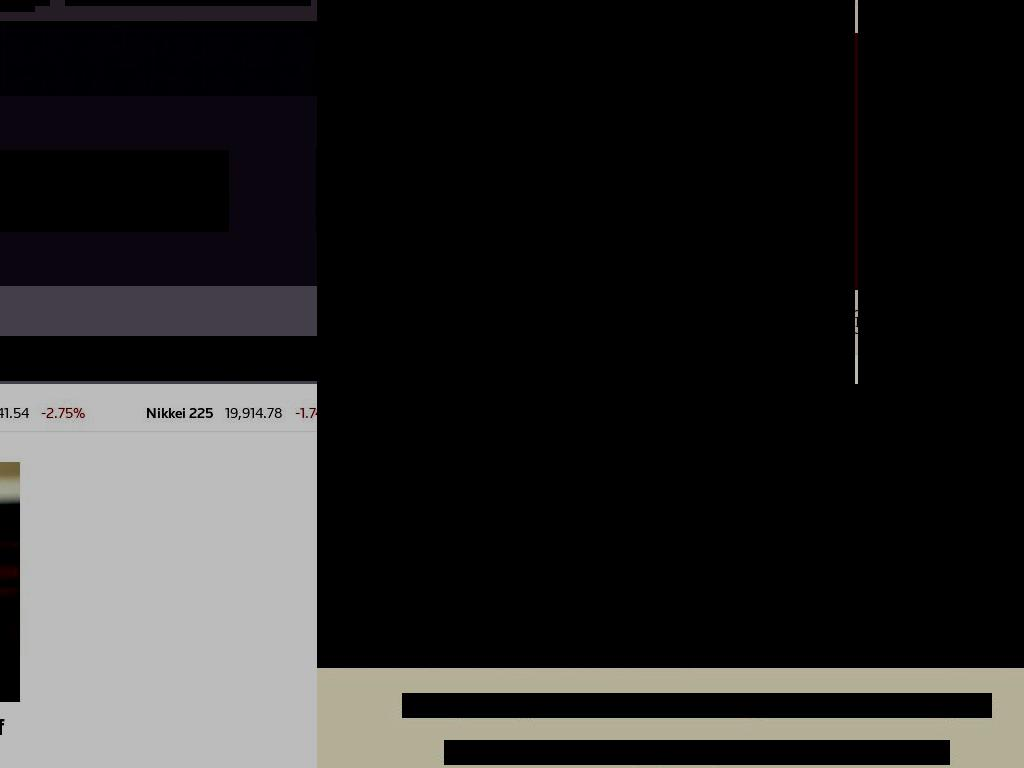button: (317, 411, 693, 668), (693, 411, 949, 668), (317, 575, 693, 628), (949, 411, 1024, 668), (693, 575, 949, 648), (949, 575, 1024, 668), (988, 314, 1024, 355), (318, 250, 341, 273), (353, 250, 376, 273), (389, 250, 412, 273), (424, 250, 447, 273), (459, 250, 482, 273), (494, 250, 517, 273), (529, 250, 552, 273), (565, 250, 588, 273), (600, 250, 623, 273), (635, 250, 658, 273), (670, 250, 693, 273), (705, 250, 728, 273), (776, 250, 799, 273), (811, 250, 834, 273), (846, 250, 869, 273), (881, 250, 904, 273), (916, 250, 939, 273), (952, 250, 975, 273), (987, 250, 1010, 273), (741, 250, 763, 273)
field: (429, 134, 756, 173), (761, 134, 829, 173), (850, 384, 1024, 396)
heading: (0, 384, 317, 768)
image: (317, 411, 693, 668), (693, 411, 949, 668), (429, 0, 829, 119), (949, 411, 1024, 668)
link: (858, 0, 1024, 384), (444, 740, 950, 765), (145, 404, 213, 422), (473, 231, 534, 247), (643, 185, 681, 201), (531, 185, 563, 201), (605, 185, 636, 201), (789, 185, 820, 201), (569, 185, 598, 201), (752, 185, 781, 201), (437, 231, 466, 247), (689, 185, 714, 201), (721, 185, 746, 201)
text: (317, 0, 855, 384), (402, 693, 992, 718), (0, 150, 175, 232), (0, 336, 317, 381), (709, 591, 933, 632), (40, 462, 317, 493), (317, 591, 677, 612), (174, 150, 229, 232), (965, 591, 1024, 652), (429, 182, 524, 204), (224, 404, 283, 422), (40, 404, 85, 422), (0, 404, 29, 422), (294, 404, 317, 422), (4, 0, 35, 12), (1009, 326, 1024, 344)
